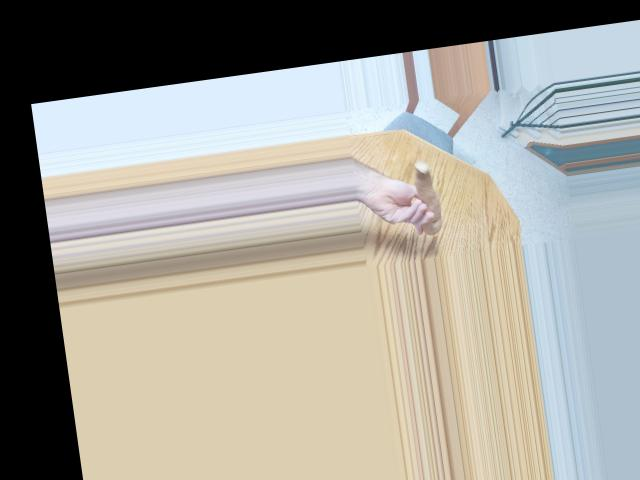sweet_potato: (405, 158, 444, 234)
